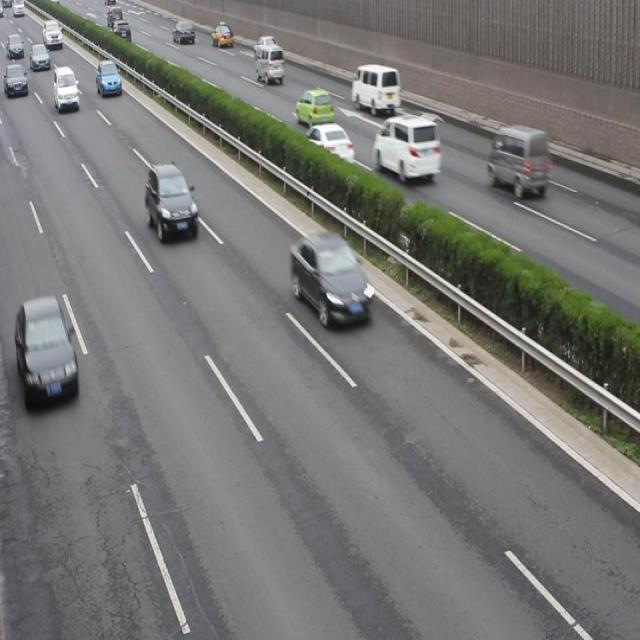car: (290, 234, 370, 327), (15, 298, 80, 407), (374, 116, 439, 183), (144, 162, 198, 239), (305, 124, 352, 168), (296, 89, 334, 128), (54, 64, 78, 110), (1, 64, 28, 96), (97, 62, 121, 96), (253, 34, 278, 58), (112, 22, 131, 48), (173, 21, 194, 44), (212, 22, 233, 44), (32, 45, 50, 69)
truck: (486, 126, 547, 194), (351, 65, 398, 110), (256, 44, 282, 85)
